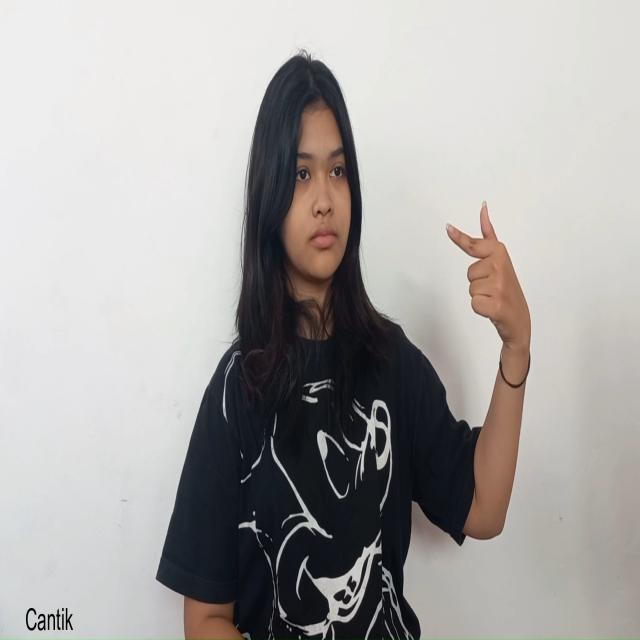Cantik -BISINDO-: (444, 197, 532, 388)
